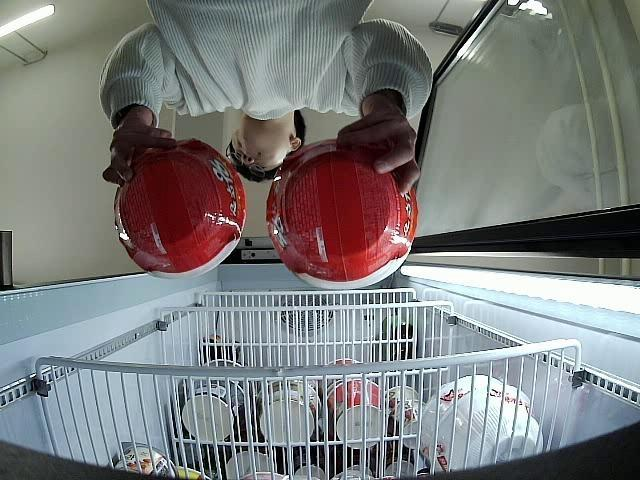10_wangTtukkeong: (267, 138, 415, 287), (115, 138, 246, 281)
